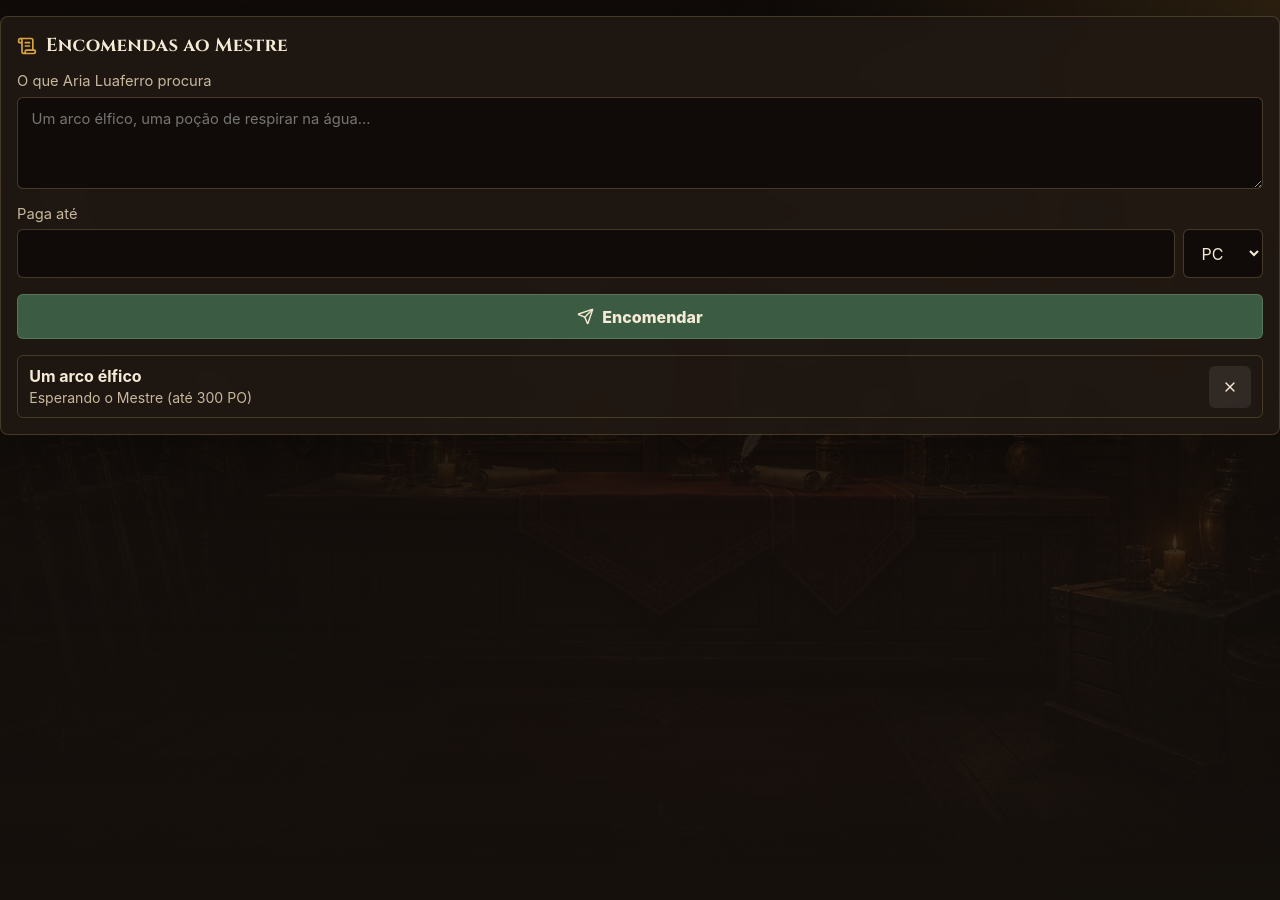
ItemRequestsPanel: corridas › cancela uma vez só e, se o Mestre já respondeu, mostra o status real
Double-click the button named "Cancelar encomenda: Um arco élfico".
double_click(1230, 387)  # box [1209, 366, 1251, 408]
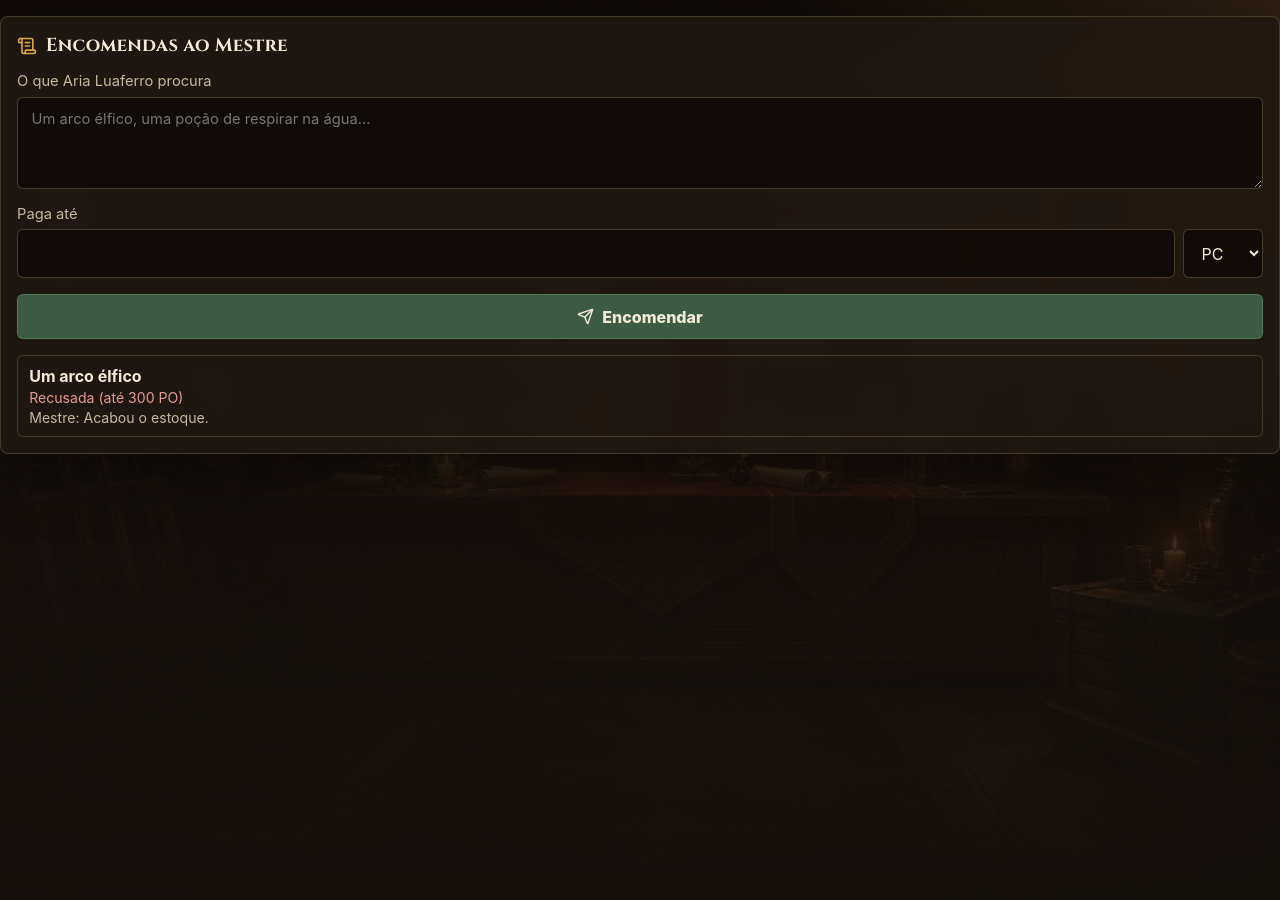
Expected: the text "Mestre: Acabou o estoque." is shown, [29, 409, 209, 426]
